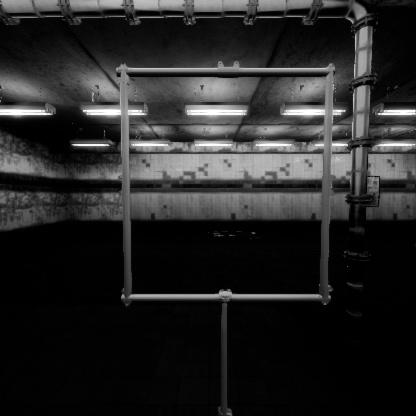gate: (120, 112, 353, 348)
